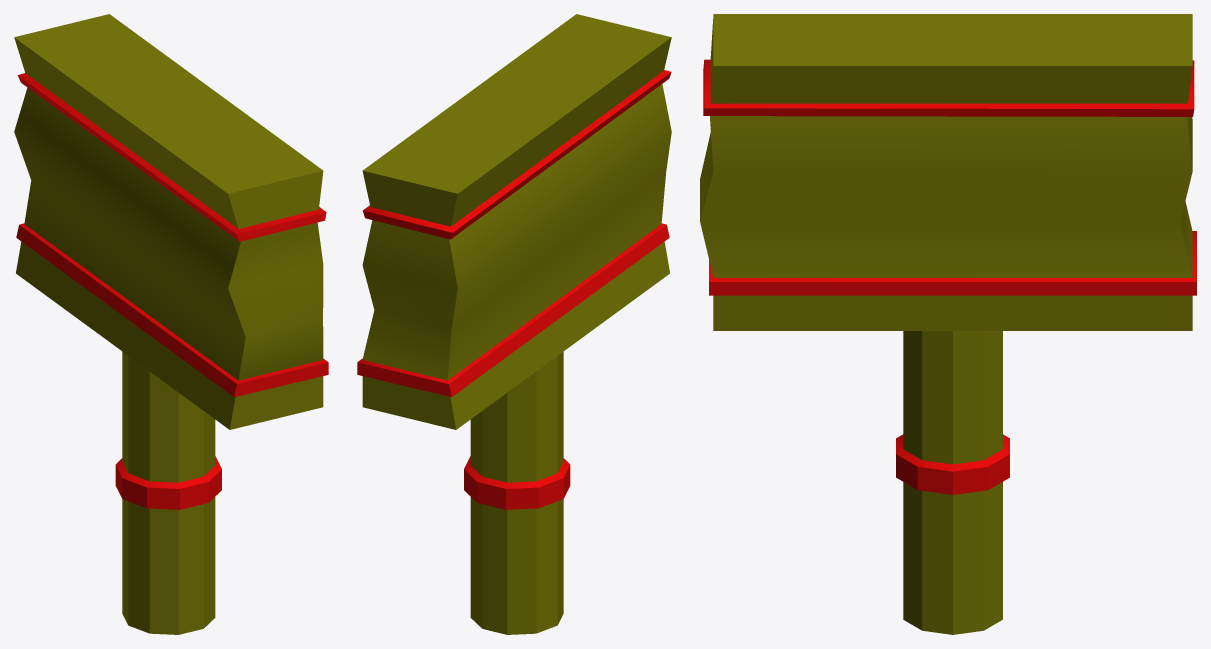
File: Sign.fbx
3 renders of one model, left to right at view 1: azimuth 30°, elevation 25°; view 2: azimuth 150°, elevation 25°; view 3: azimuth 270°, elevation 25°, orthographic. The views are drawn at different scales.
Parts seen in each view (by area): view 1: pCube1, pCylinder1; view 2: pCube1, pCylinder1; view 3: pCube1, pCylinder1.
Boxes of the visible parts, x1=… form: pCube1: x1=14, y1=14, x2=328, y2=429; pCylinder1: x1=115, y1=351, x2=221, y2=634; pCube1: x1=357, y1=14, x2=671, y2=429; pCylinder1: x1=464, y1=351, x2=570, y2=634; pCube1: x1=700, y1=14, x2=1196, y2=330; pCylinder1: x1=896, y1=331, x2=1009, y2=634.
Bounding box in the file's own units: 0.2662 × 1.32 × 1.04.
